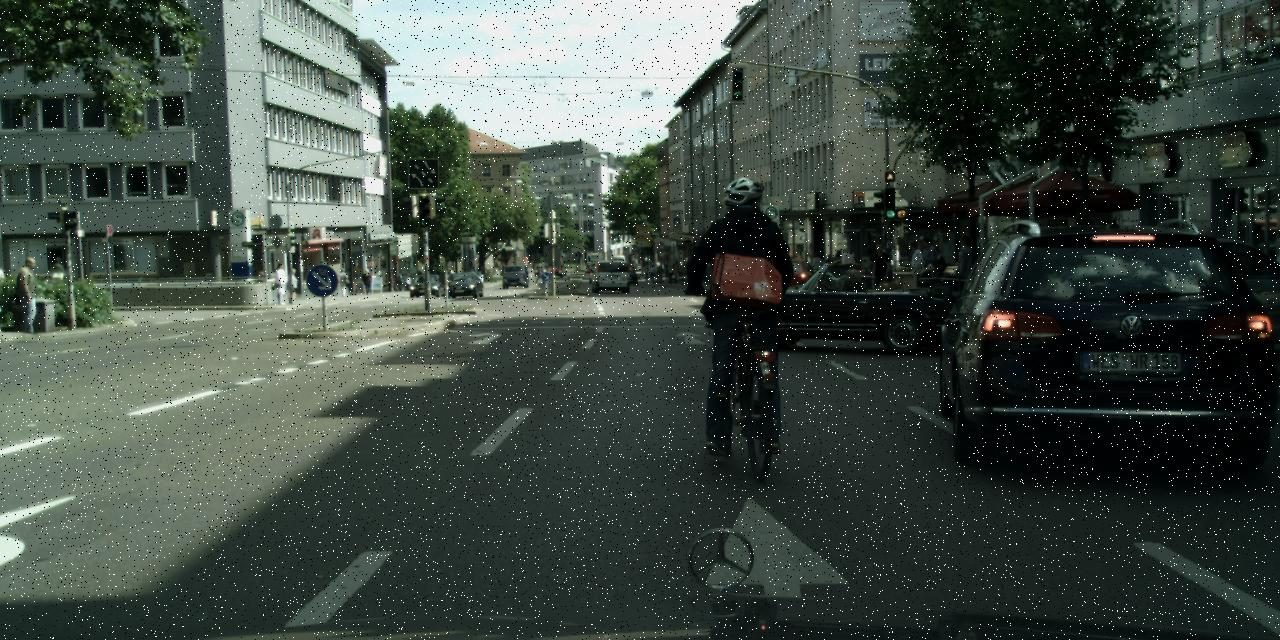ped: (688, 177, 799, 451), (13, 256, 44, 332), (951, 233, 980, 306), (866, 243, 893, 308), (906, 238, 947, 278), (272, 261, 289, 303), (49, 257, 65, 298), (840, 248, 854, 284), (285, 268, 299, 303), (808, 253, 822, 288), (256, 265, 268, 297), (337, 266, 348, 296), (362, 269, 371, 293), (536, 264, 544, 283)
